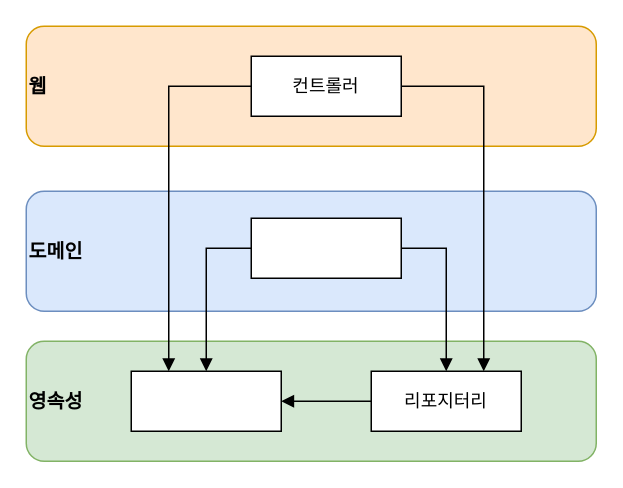
Some shapes in this 623 by 488 pixel diagram are drawn without their labels. The box of each missing label's shape, as (x1, y1, x2, y2) in pixels:
서비스: (250, 217, 401, 278)
엔티티: (130, 370, 281, 431)
